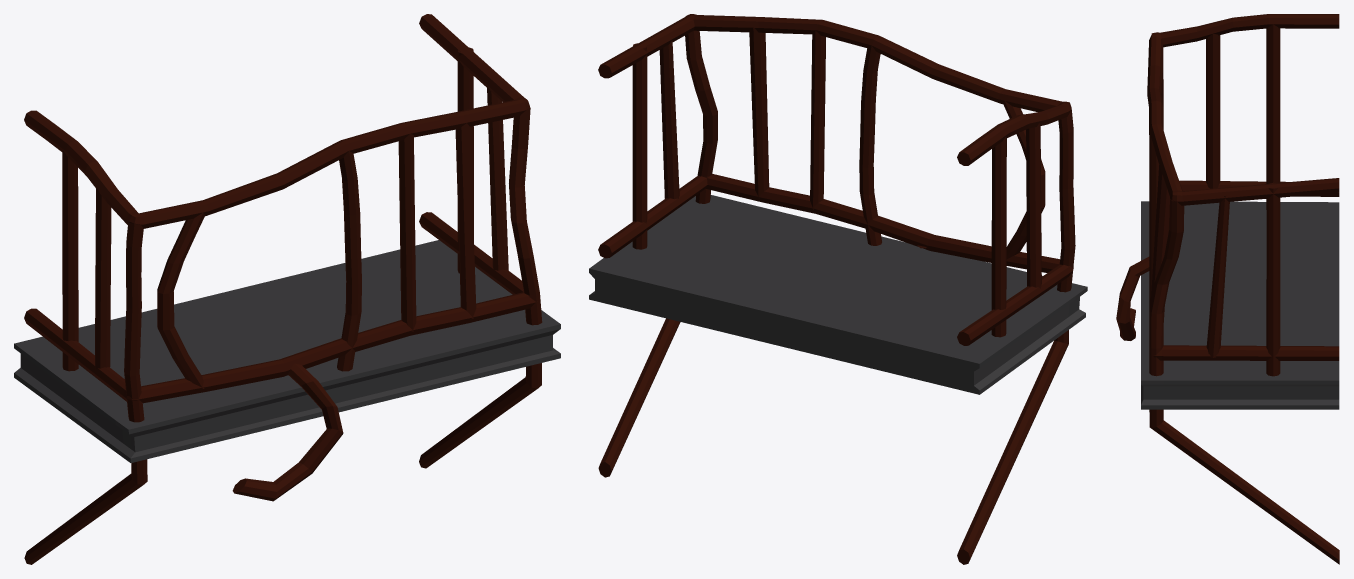
The model's file is Balcony_Medium_Broken.fbx.
The picture shows the model from 3 angles, left to right: view 1: azimuth 30°, elevation 25°; view 2: azimuth 150°, elevation 25°; view 3: azimuth 270°, elevation 25°; orthographic projection. The views are drawn at different scales.
Visible parts, largest first — view 1: Balcony_Medium_Broken; view 2: Balcony_Medium_Broken; view 3: Balcony_Medium_Broken.
Part boxes in pixels (x1,y1,x2,y2): Balcony_Medium_Broken: (14,14,560,564); Balcony_Medium_Broken: (589,14,1087,564); Balcony_Medium_Broken: (1116,14,1339,564).
Size of the model in its own units: 1048 by 1055 by 552.
